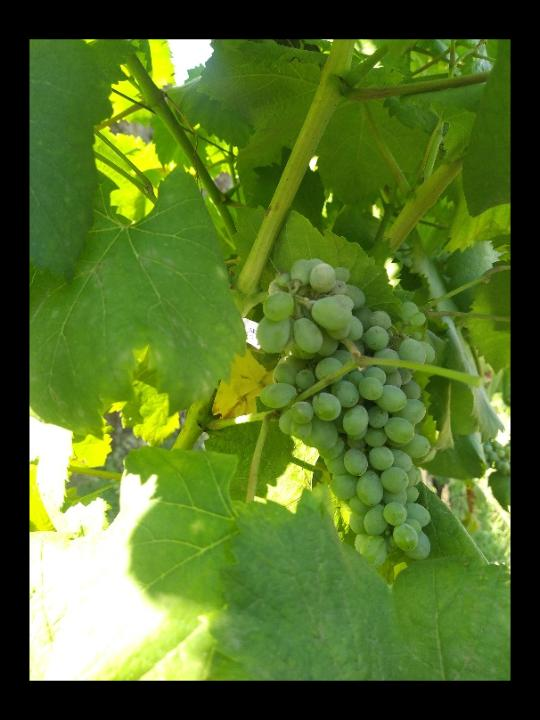grape: (256, 261, 437, 563)
